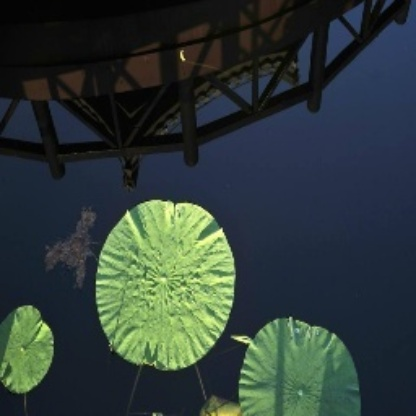leaf: (96, 197, 234, 370)
